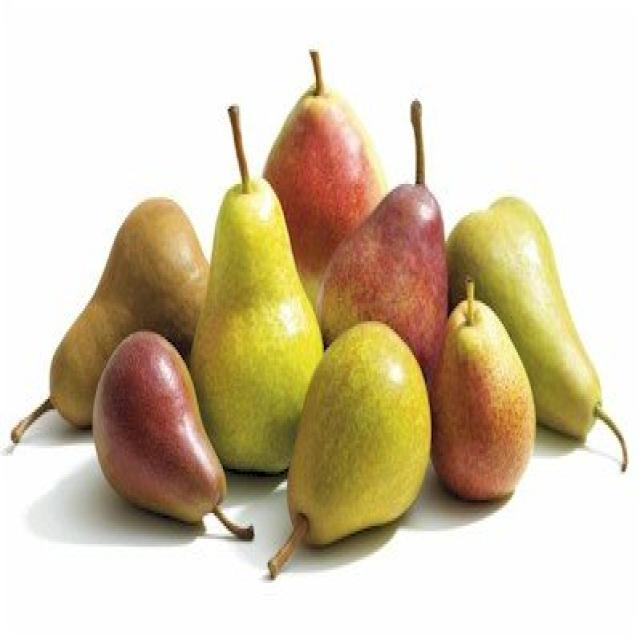paer: (448, 167, 614, 490), (170, 190, 318, 494), (66, 316, 240, 574), (293, 323, 451, 563), (306, 151, 455, 391), (87, 186, 216, 462), (245, 92, 386, 240), (436, 297, 525, 506)
